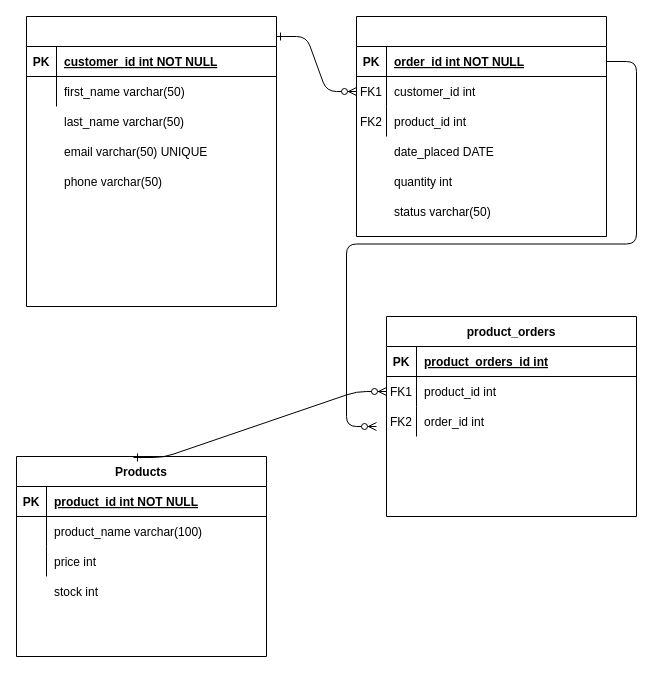
Some shapes in this 653 by 673 pixel diagram are drawn without their labels. Each missing label, with the box of its shape:
Customers: (26, 16, 276, 306)
Orders: (356, 16, 606, 236)
